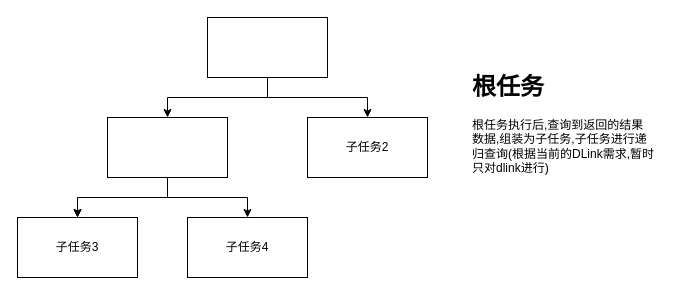
Image size: 675x295. Some labels were removed from this diagram. The shapes that lost their labels are listed below. From the top down, each one's centre as x and y in pixels, then its label:
[267,47]: 根任务
[167,147]: 子任务1
